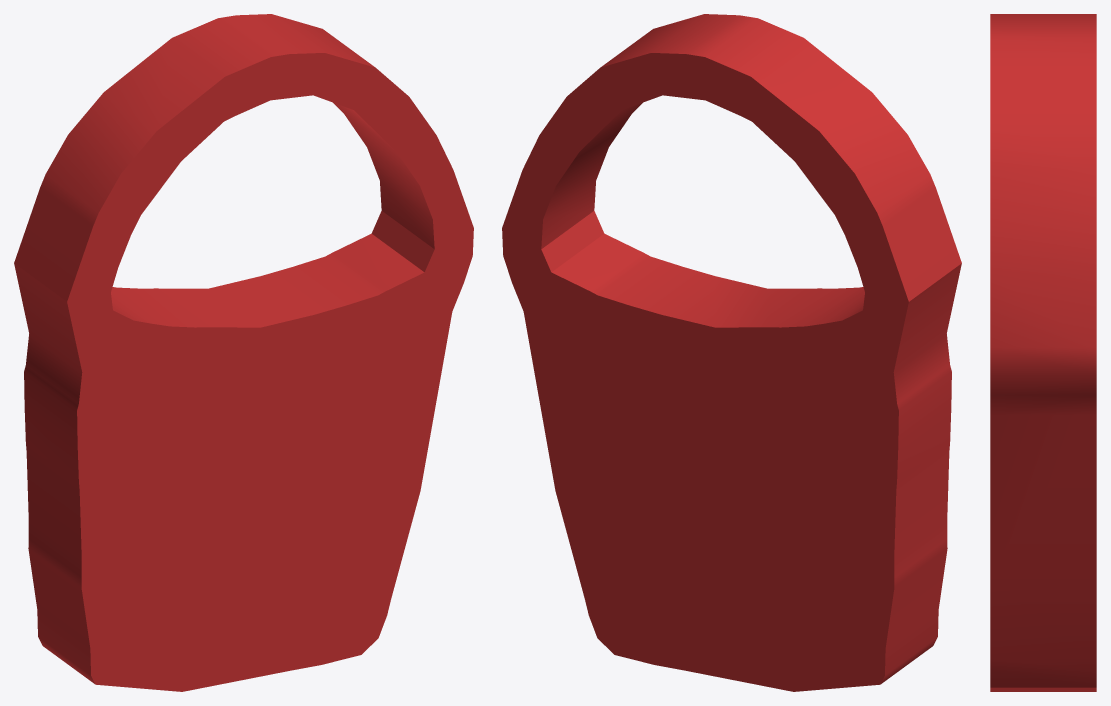
The model's file is water_on_the_knee_body.obj.
The picture shows the model from 3 angles, left to right: view 1: azimuth 30°, elevation 25°; view 2: azimuth 150°, elevation 25°; view 3: azimuth 270°, elevation 25°; orthographic projection.
Parts seen in each view (by area): view 1: water_on_the_knee_visual; view 2: water_on_the_knee_visual; view 3: water_on_the_knee_visual.
Part boxes in pixels (x1,y1,x2,y2): water_on_the_knee_visual: (14, 14, 473, 691); water_on_the_knee_visual: (502, 14, 961, 691); water_on_the_knee_visual: (990, 14, 1096, 691).
Bounding box in the file's own units: 0.00886 × 0.0129 × 0.002.
